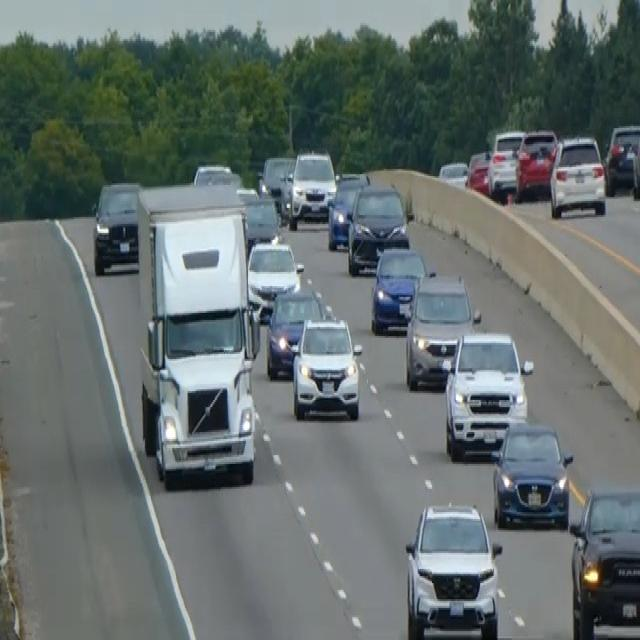car: (404, 500, 502, 638), (443, 329, 533, 460), (568, 484, 639, 638), (404, 270, 481, 390), (491, 420, 573, 530), (291, 315, 362, 421), (346, 181, 409, 274), (265, 286, 326, 381), (370, 244, 427, 334), (548, 133, 606, 219), (92, 178, 142, 276), (246, 236, 304, 318), (289, 148, 336, 228), (327, 170, 369, 250), (515, 126, 558, 201), (487, 128, 525, 199), (238, 188, 280, 252), (604, 122, 639, 196), (258, 153, 295, 215), (192, 160, 240, 188), (465, 147, 491, 195), (437, 158, 468, 188), (631, 125, 639, 199)
lorry: (134, 181, 261, 487)
